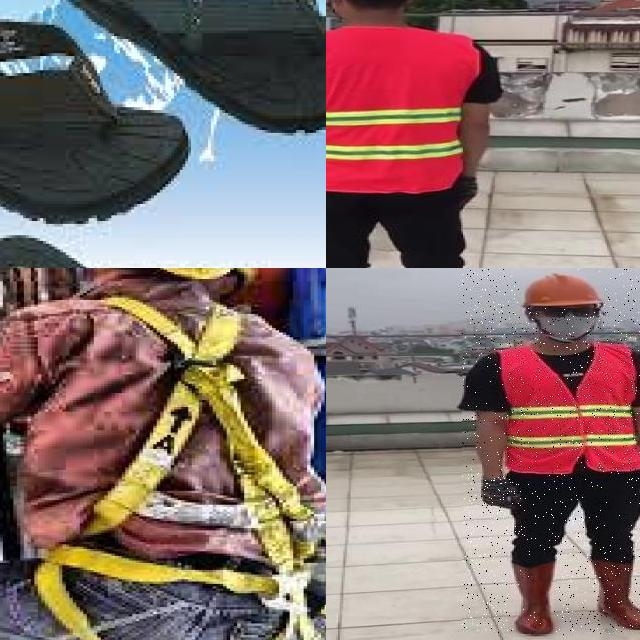Harness: (35, 294, 311, 640)
Sandals: (0, 0, 326, 268)
boots: (588, 557, 640, 630), (508, 557, 556, 634)
hand_glove: (461, 179, 479, 211)
head_helmet: (519, 272, 604, 308)
person: (462, 269, 640, 635), (326, 0, 512, 268)
vest: (326, 27, 477, 191), (494, 345, 640, 474)
